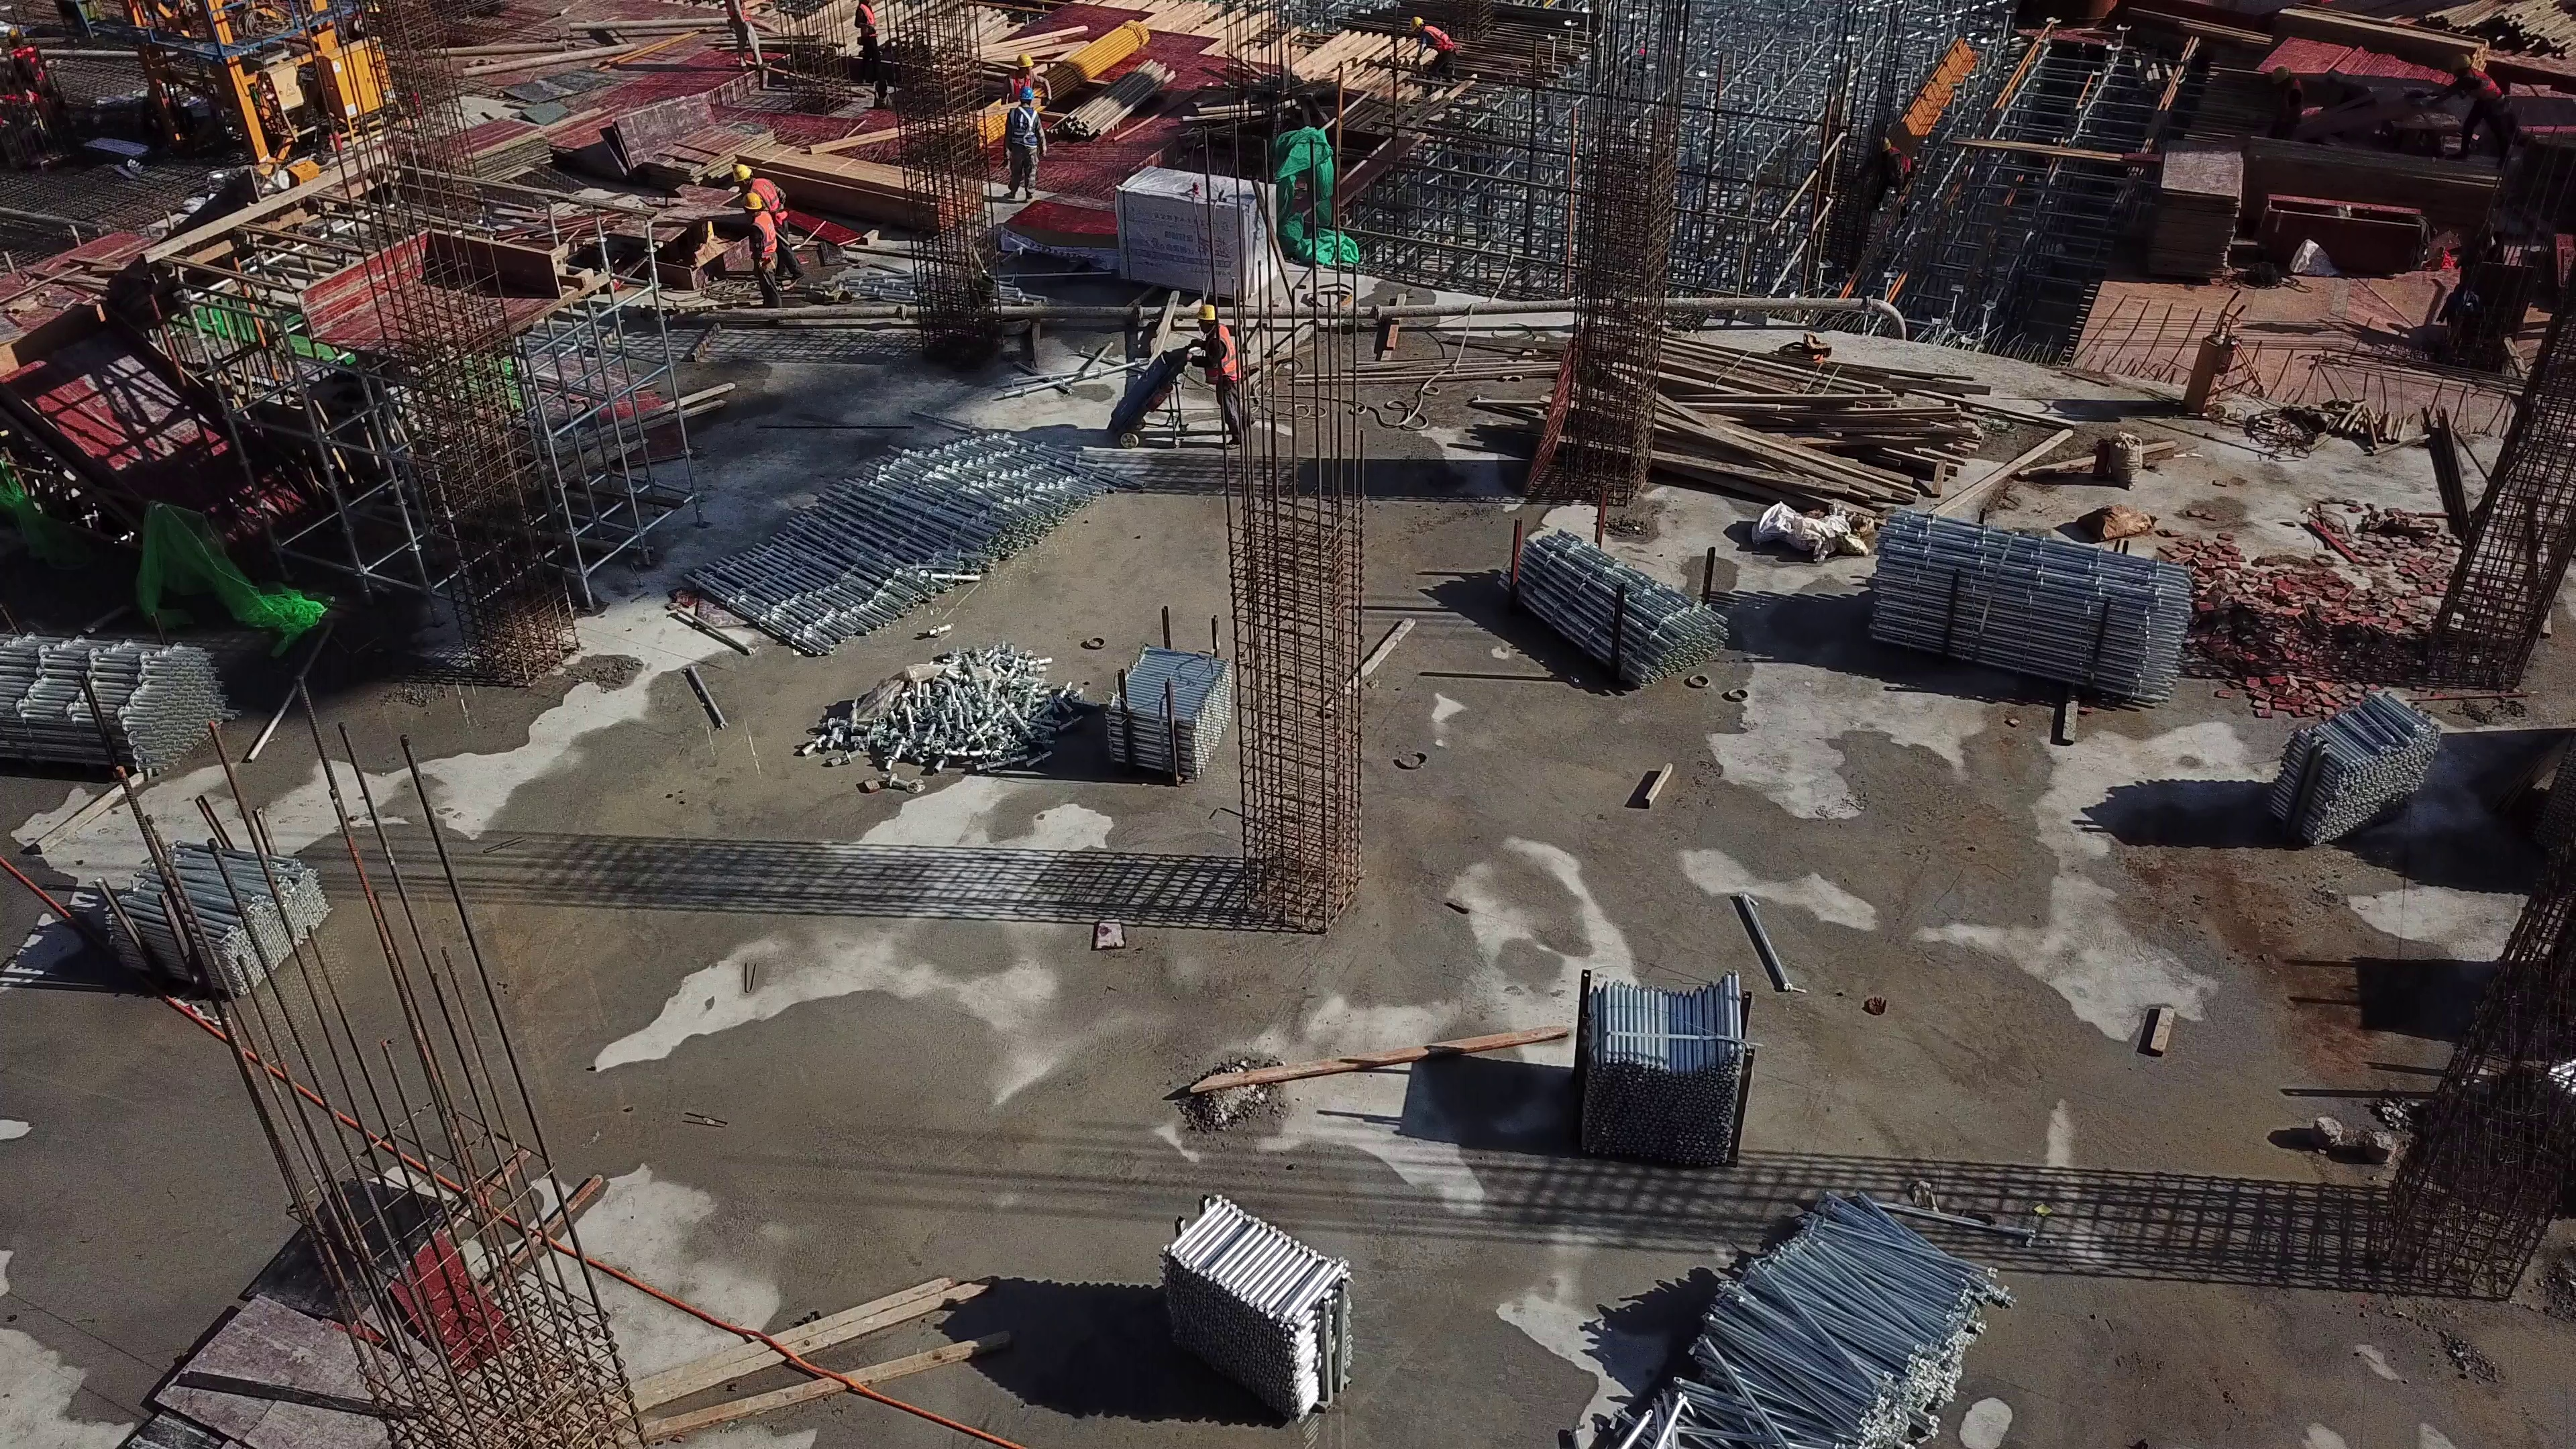board: (409, 119, 554, 198), (2155, 148, 2242, 276), (987, 191, 1125, 260), (650, 131, 754, 179)
cutter: (610, 186, 722, 268), (2388, 86, 2472, 161)
ebox: (324, 37, 406, 140), (257, 60, 315, 148)
helmet: (740, 189, 765, 212), (731, 162, 752, 183), (2273, 64, 2291, 83), (1197, 304, 1219, 321), (1018, 85, 1033, 102), (1016, 51, 1034, 67), (2454, 52, 2469, 69), (1408, 16, 1425, 31)
person: (1184, 301, 1254, 447), (733, 164, 801, 283), (2430, 57, 2504, 166), (1002, 85, 1046, 205), (741, 190, 783, 305), (1409, 17, 1459, 89), (856, 1, 888, 95), (724, 1, 767, 70), (1002, 54, 1051, 105), (1872, 136, 1913, 200), (2266, 66, 2300, 131)
scaffold: (674, 431, 1117, 662), (1604, 1196, 1992, 1449), (1871, 512, 2184, 718), (1166, 1204, 1340, 1409), (5, 627, 229, 779), (1509, 529, 1718, 692), (1575, 965, 1742, 1163), (97, 841, 312, 988), (2269, 694, 2430, 851), (1108, 639, 1226, 769)
vest: (1205, 329, 1241, 380), (754, 175, 790, 222), (2466, 68, 2501, 103), (749, 215, 777, 259), (1012, 107, 1038, 143), (1424, 25, 1452, 53), (860, 7, 877, 34), (1006, 74, 1029, 93)
wood: (2255, 123, 2469, 213), (779, 141, 959, 237), (2277, 17, 2488, 62)
